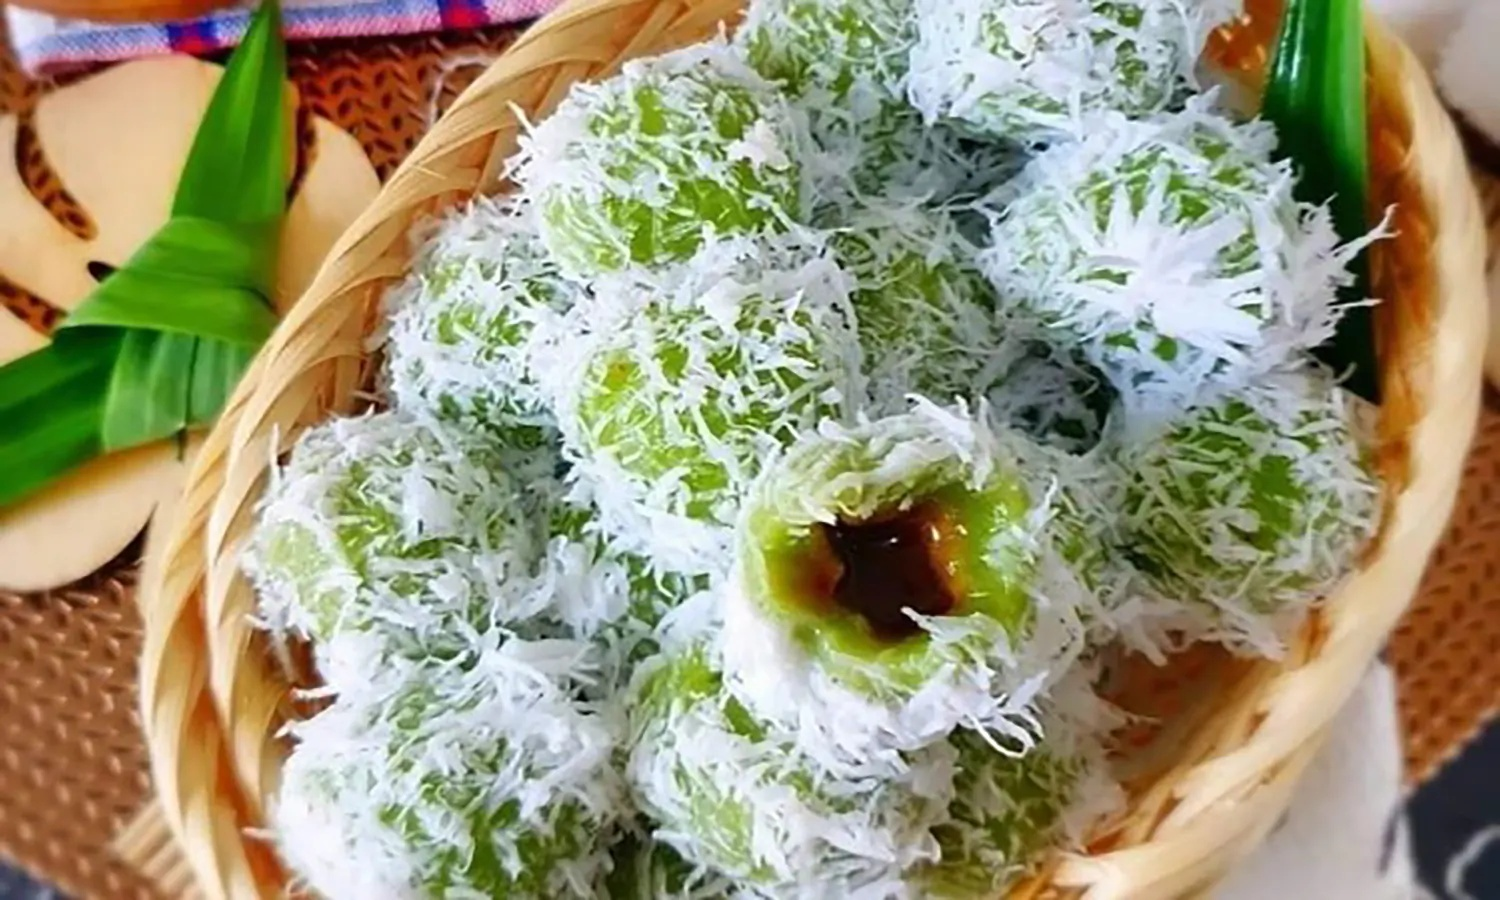klepon: (718, 352, 1068, 769)
